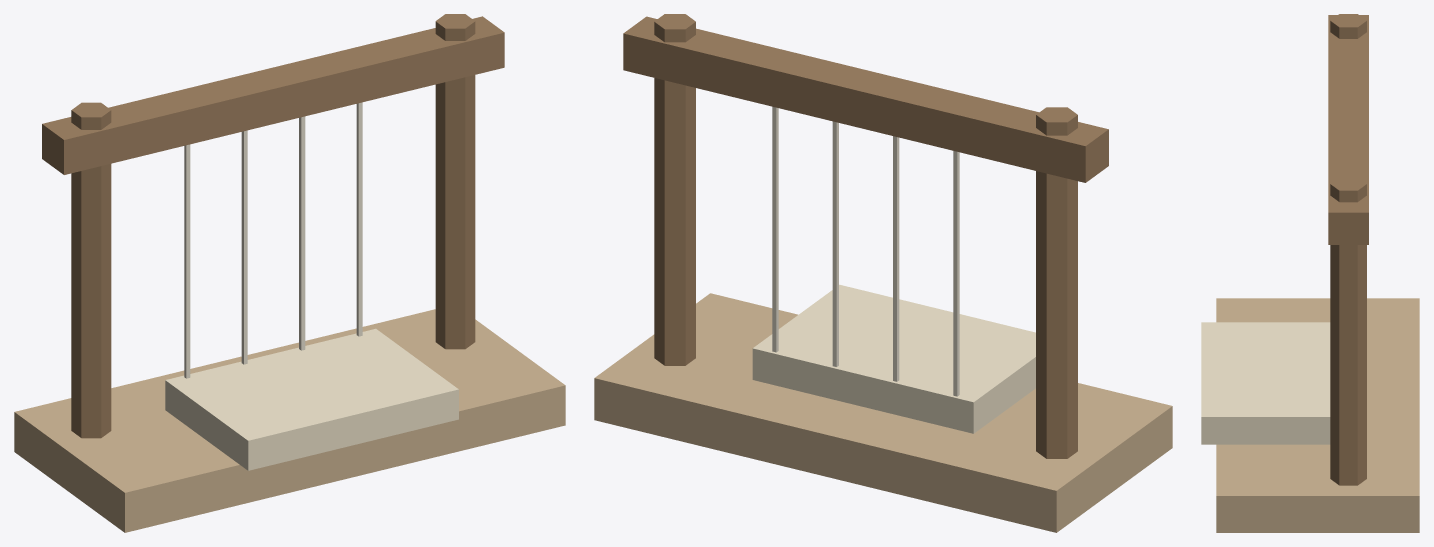
Rendered from prop-sewing-frame.fbx.
3 views of the same model, side by side, from view 1: azimuth 30°, elevation 25°; view 2: azimuth 150°, elevation 25°; view 3: azimuth 270°, elevation 25° (orthographic). The views are drawn at different scales.
Visible parts, largest first — view 1: prop-sewing-frame; view 2: prop-sewing-frame; view 3: prop-sewing-frame.
Boxes of the visible parts, x1=… form: prop-sewing-frame: x1=14, y1=14, x2=565, y2=532; prop-sewing-frame: x1=594, y1=14, x2=1172, y2=532; prop-sewing-frame: x1=1201, y1=14, x2=1419, y2=532.
Bounding box in the file's own units: 46 × 36 × 21.5.
